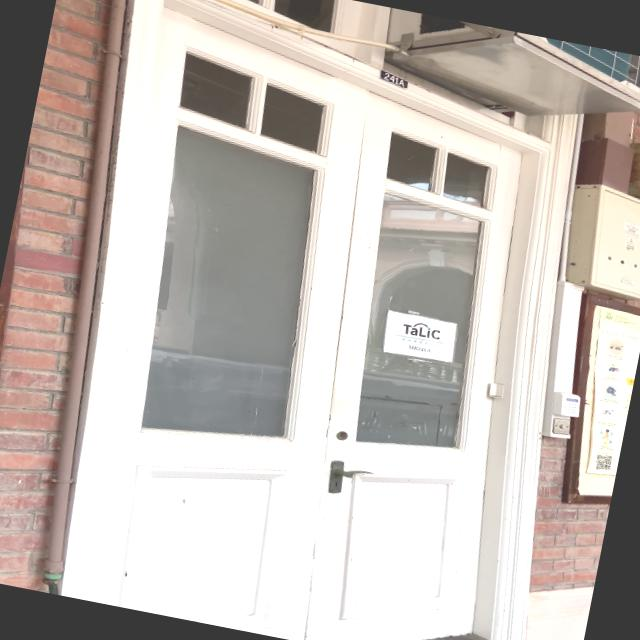room241a: (374, 68, 411, 92)
